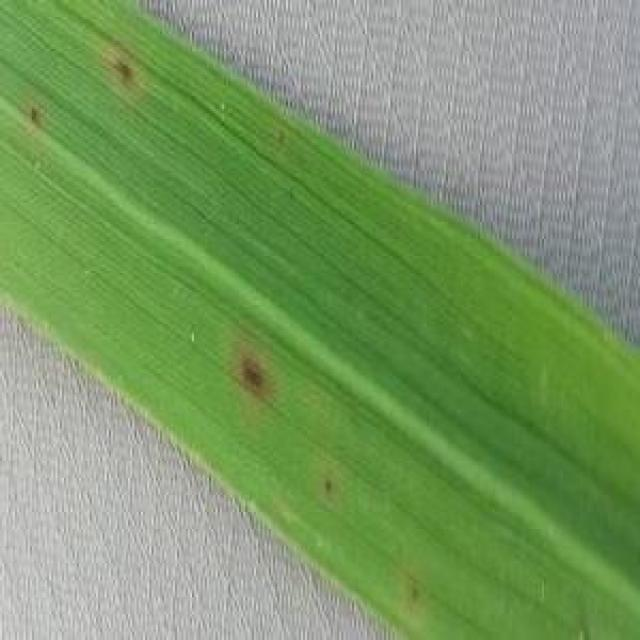brownspots: (228, 339, 278, 399), (88, 50, 154, 90)
